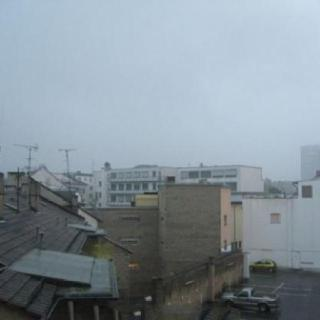Nimbostratus: (0, 0, 320, 162)
